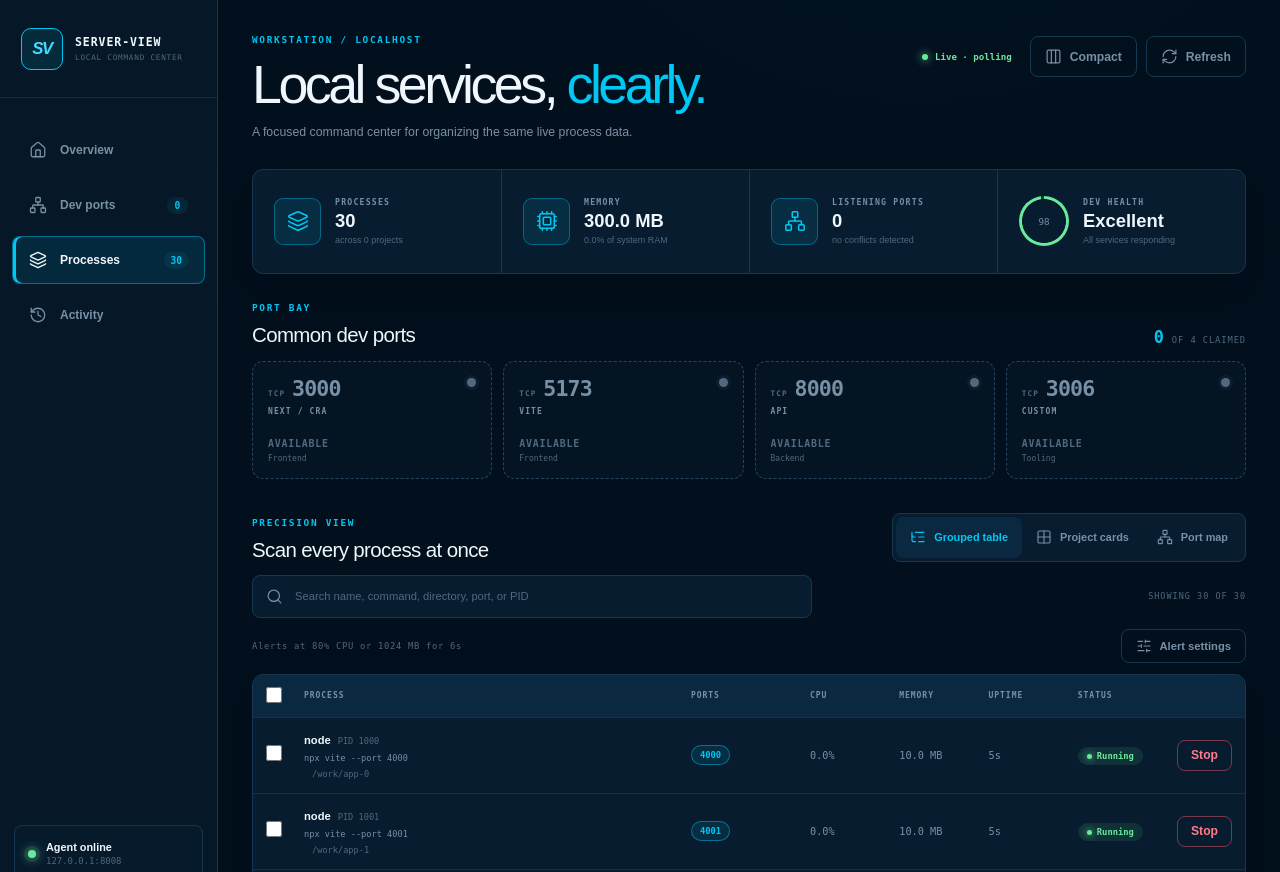
Test: App › bulk stop › splits selections larger than the API limit into batches of 25
Expected: the text "npx vite --port 4000" is shown, [304, 753, 408, 763]
Click the checkbox named "Select all shown processes" at (274, 695), box [266, 687, 282, 703]
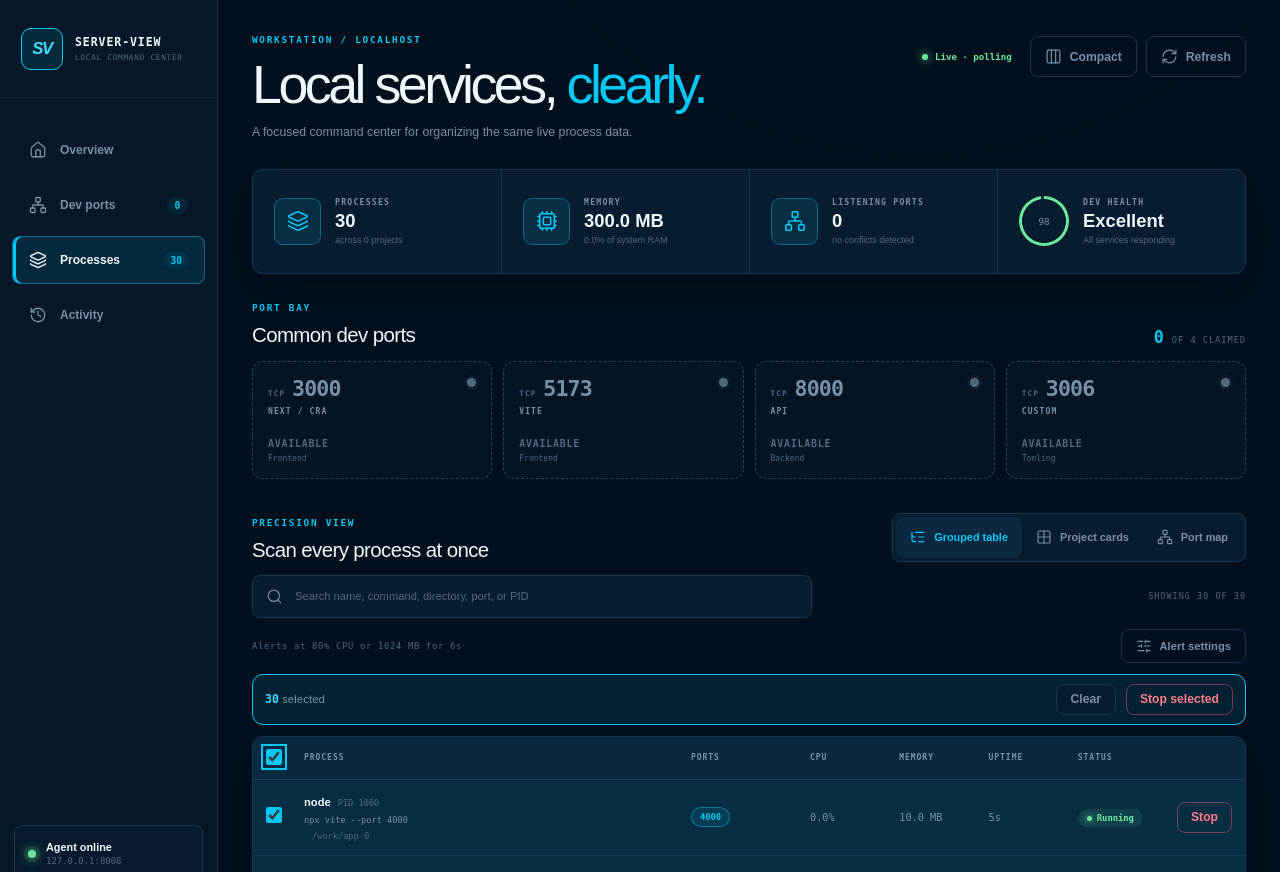
Click the button "Stop selected" at (1180, 699), box [1126, 684, 1233, 715]
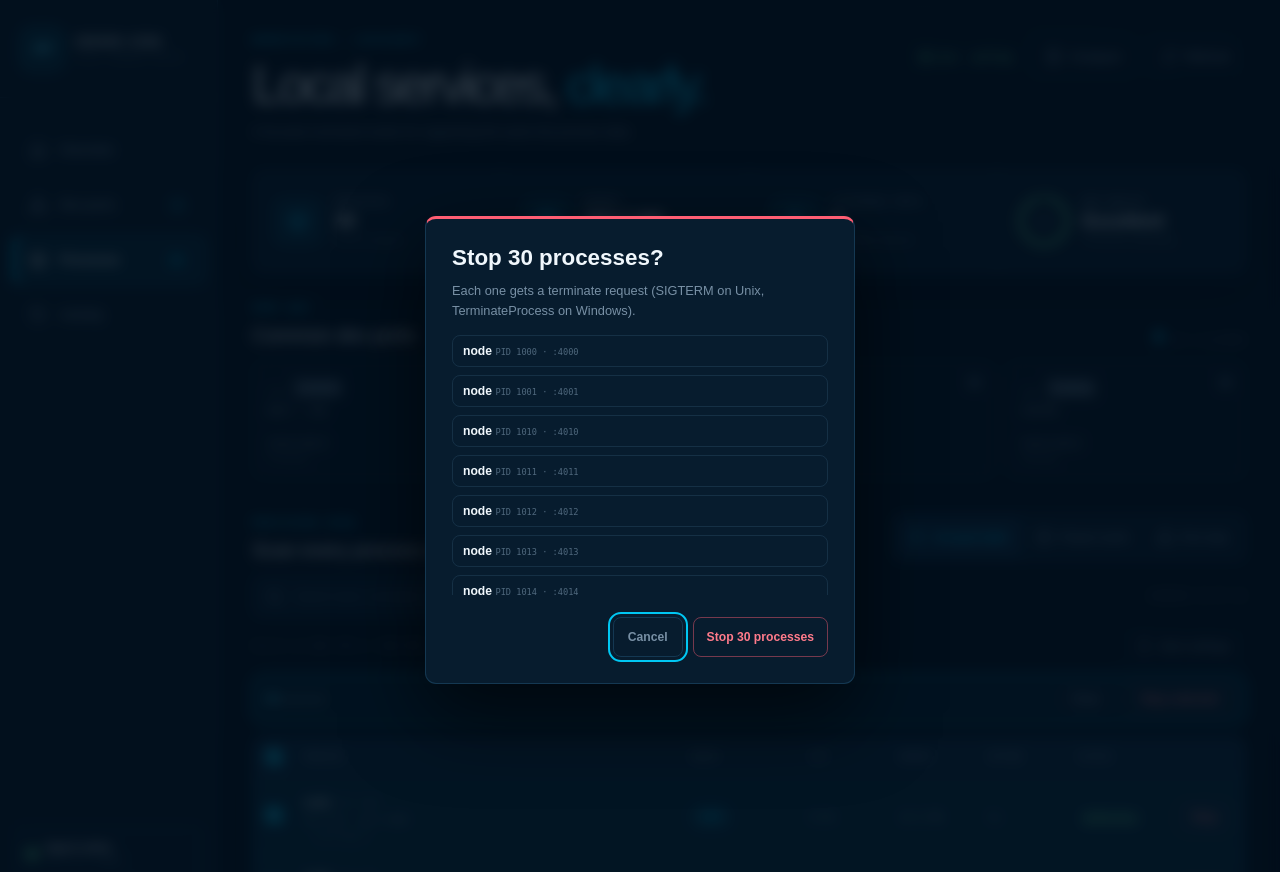
Click the button "Stop 30 processes" at (760, 638), box [693, 618, 828, 658]
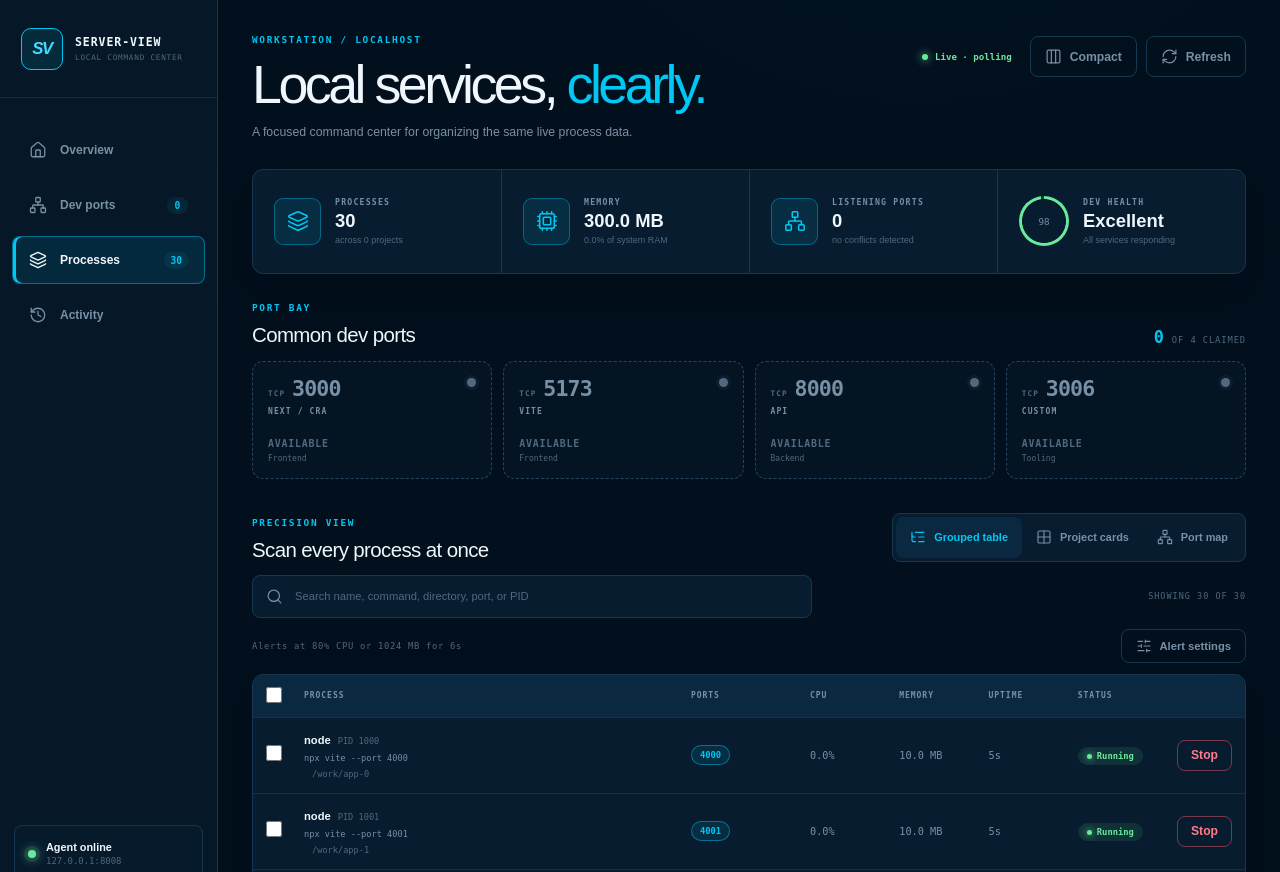
Expected: the dialog is gone
